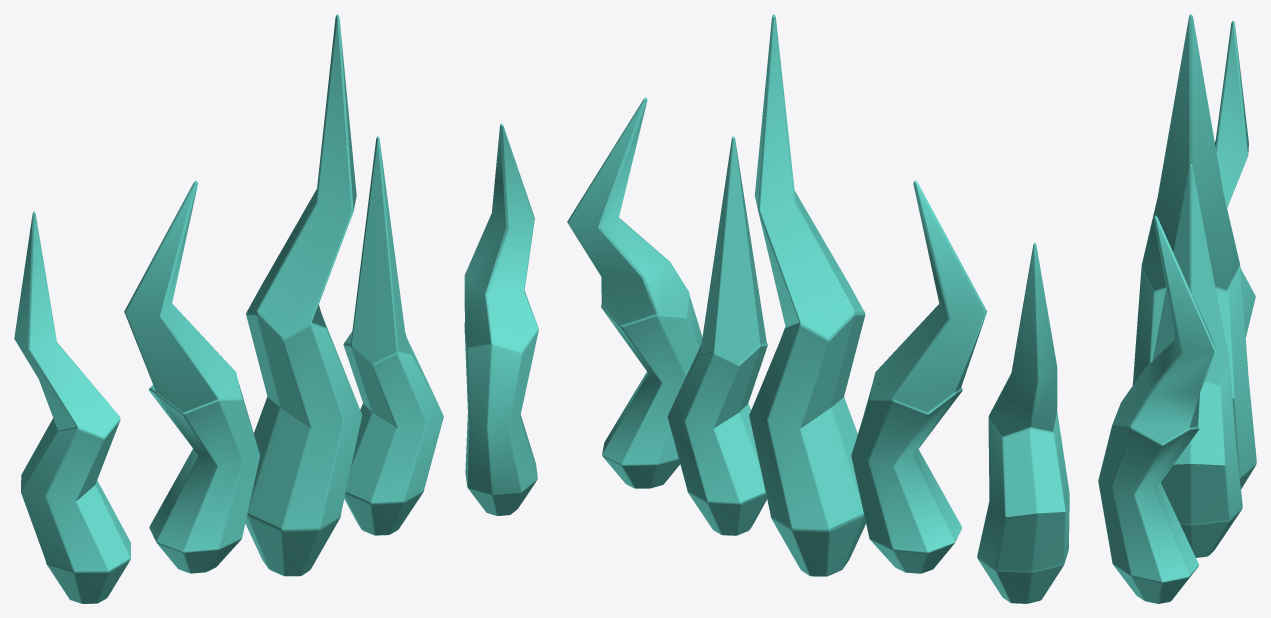
The model's file is ice spikes.fbx.
3 renders of one model, left to right at view 1: azimuth 30°, elevation 25°; view 2: azimuth 150°, elevation 25°; view 3: azimuth 270°, elevation 25°, orthographic.
Visible parts, largest first — view 1: polySurface80, polySurface83, polySurface82, polySurface84, polySurface81; view 2: polySurface80, polySurface83, polySurface84, polySurface81, polySurface82; view 3: polySurface84, polySurface80, polySurface81, polySurface82.
Boxes of the visible parts, x1,y1,x2,y2 form: polySurface80: (245,14,362,576); polySurface83: (124,181,260,573); polySurface82: (14,211,130,603); polySurface84: (464,123,538,515); polySurface81: (343,136,443,535); polySurface80: (749,14,865,576); polySurface83: (851,180,987,573); polySurface84: (567,97,702,488); polySurface81: (667,136,767,535); polySurface82: (977,243,1069,603); polySurface84: (1098,215,1216,603); polySurface80: (1132,14,1256,488); polySurface81: (1153,164,1242,557); polySurface82: (1215,20,1255,337).
Size of the model in its own units: 7.78 by 8.05 by 2.17.
